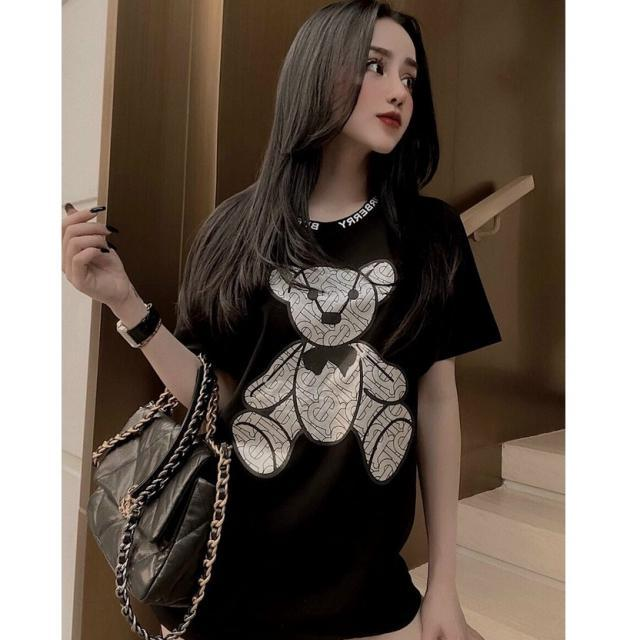Shirt: (166, 178, 502, 640)
